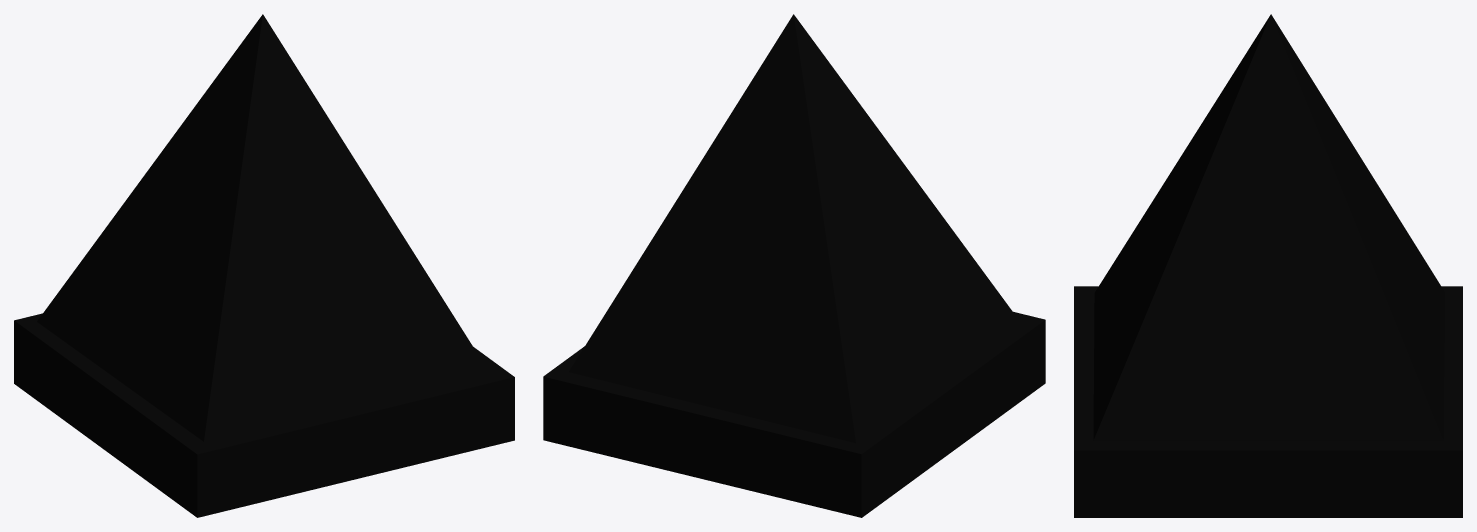
Rendered from spike.fbx.
The picture shows the model from 3 angles, left to right: view 1: azimuth 30°, elevation 25°; view 2: azimuth 150°, elevation 25°; view 3: azimuth 270°, elevation 25°; orthographic projection. The views are drawn at different scales.
Visible parts, largest first — view 1: node_id3; view 2: node_id3; view 3: node_id3.
Boxes of the visible parts, <box> form: node_id3: <box>14,14,514,517</box>; node_id3: <box>543,14,1045,517</box>; node_id3: <box>1074,14,1462,517</box>.
Size of the model in its own units: 0.4281 by 0.512 by 0.4281.
1 material, 1 textured.
